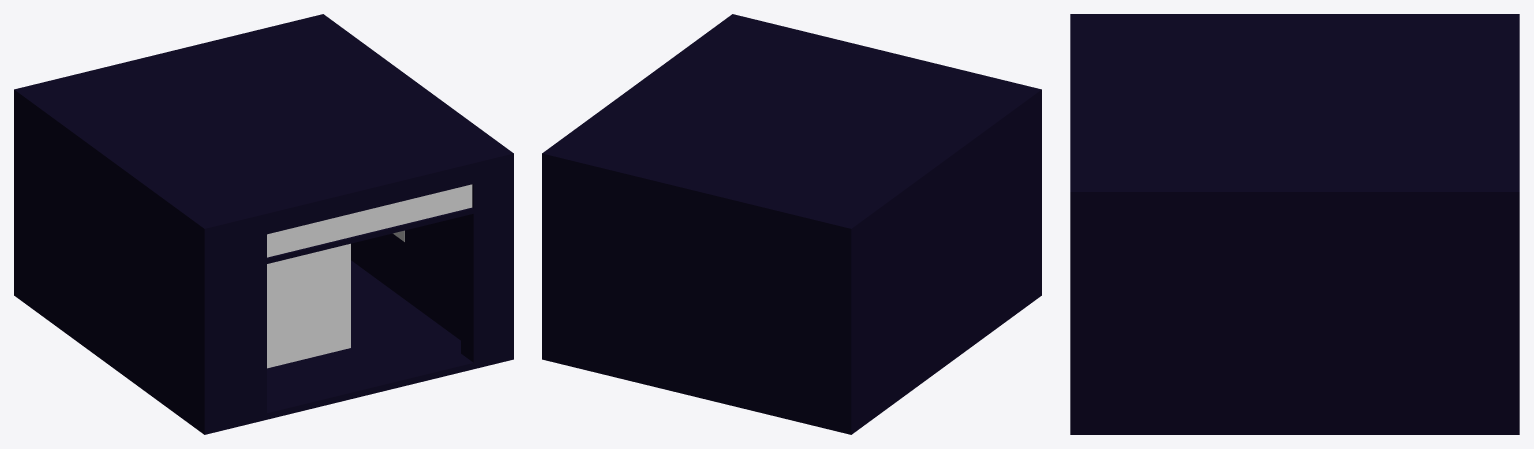
The model's file is TP_GATE.glb.
The picture shows the model from 3 angles, left to right: view 1: azimuth 30°, elevation 25°; view 2: azimuth 150°, elevation 25°; view 3: azimuth 270°, elevation 25°; orthographic projection. The views are drawn at different scales.
Visible parts, largest first — view 1: TP_GATE; view 2: TP_GATE; view 3: TP_GATE.
Boxes of the visible parts, x1,y1,x2,y2 form: TP_GATE: (14, 14, 513, 434); TP_GATE: (542, 14, 1041, 434); TP_GATE: (1070, 14, 1519, 434).
Size of the model in its own units: 7.76 by 4.94 by 8.28.
